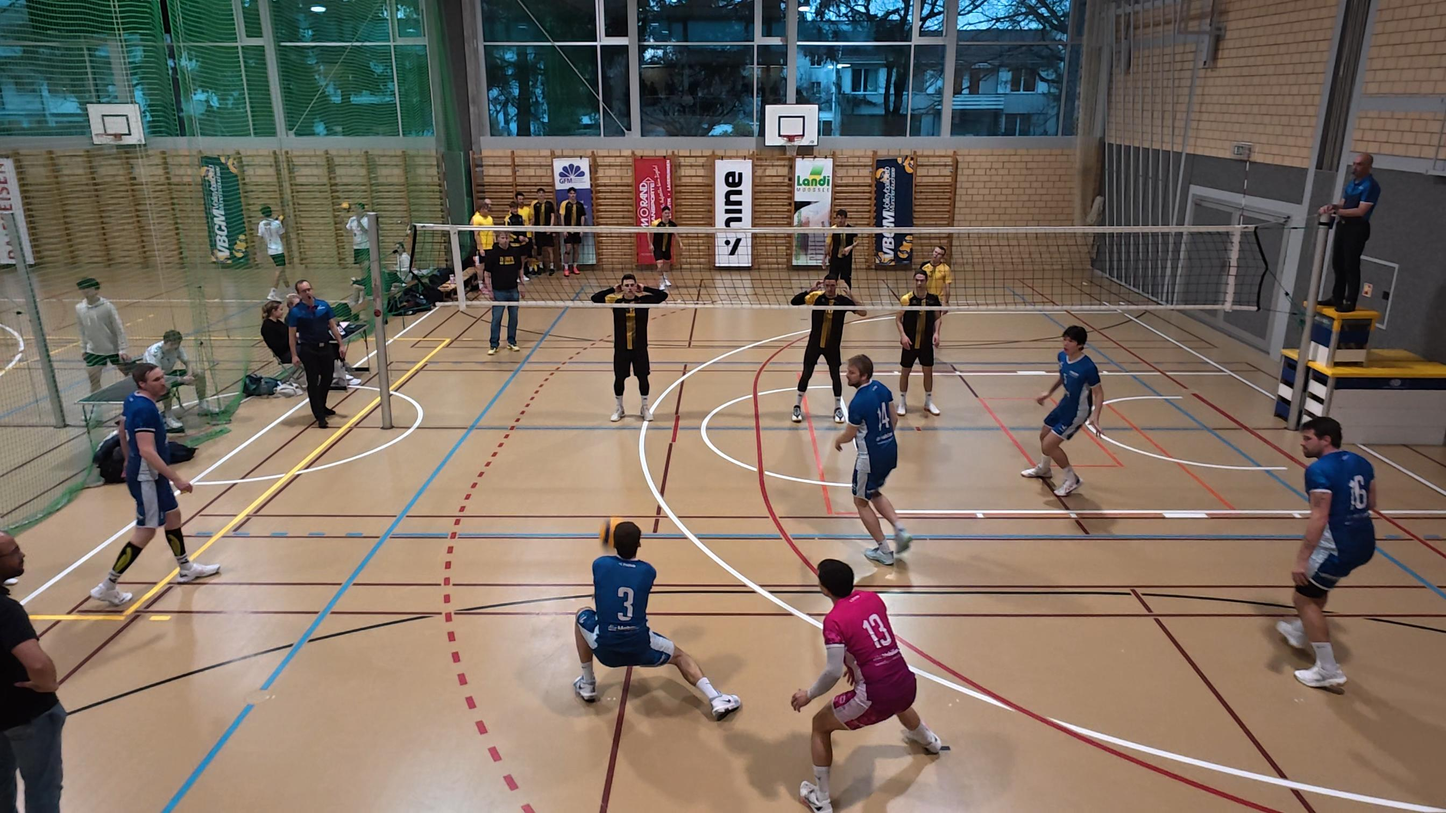ricezione: (567, 518, 743, 723)
